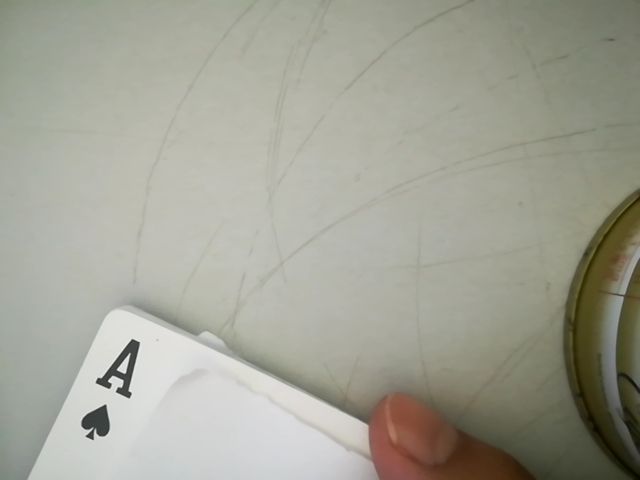ht a: (69, 323, 145, 454)
